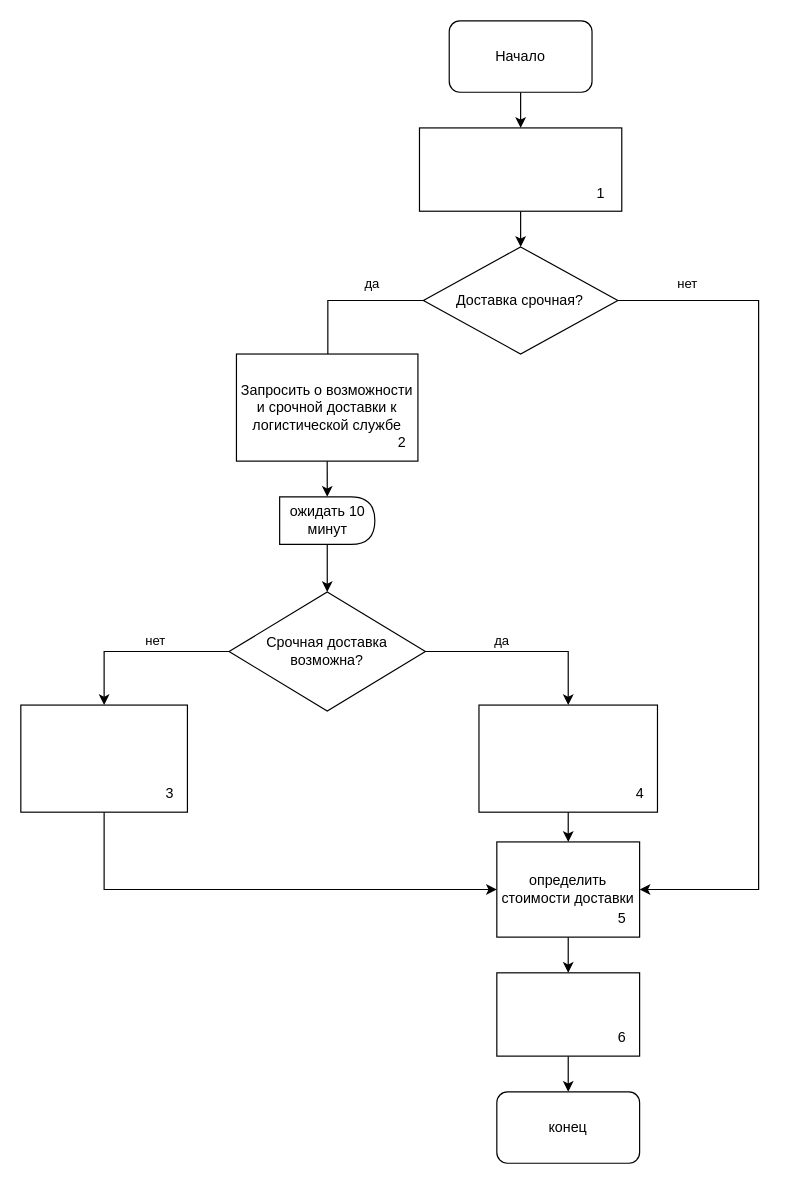
Some shapes in this 789 by 1184 pixel diagram are drawn without their labels. Each missing label, with the box of its shape:
оформить доставку: (496, 972, 640, 1056)
Поступила заявка от покупателя на доставку заказа: (418, 127, 622, 211)
согласовать срока доставки с покупателем: (478, 704, 657, 812)
сообщить о невозможности срочной доставки: (20, 704, 187, 812)
